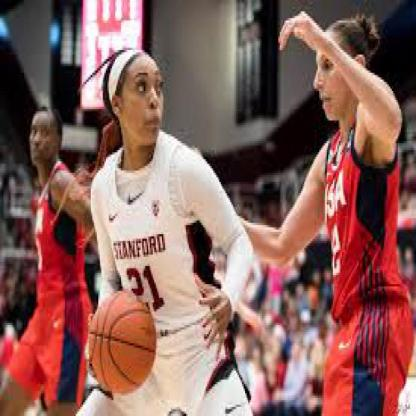basketball: (88, 291, 156, 395)
